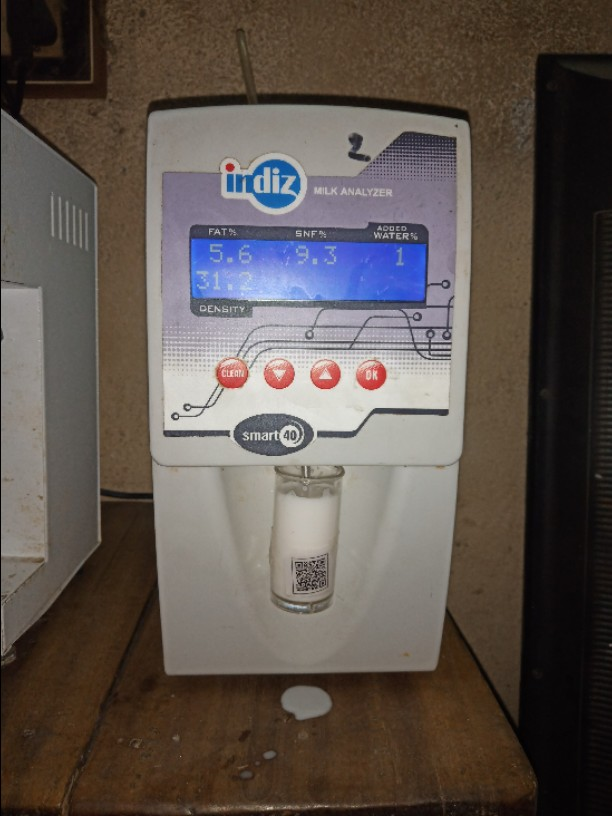lcd: (185, 225, 428, 314)
qr: (289, 555, 335, 597)
